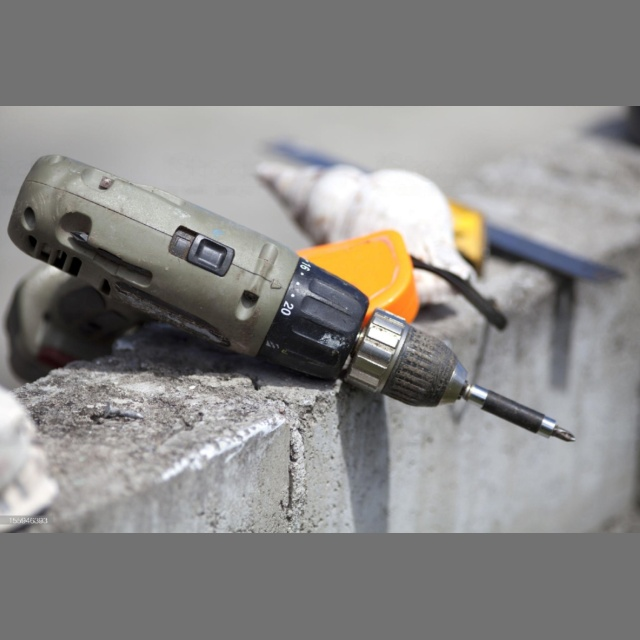drill: (10, 148, 584, 494)
